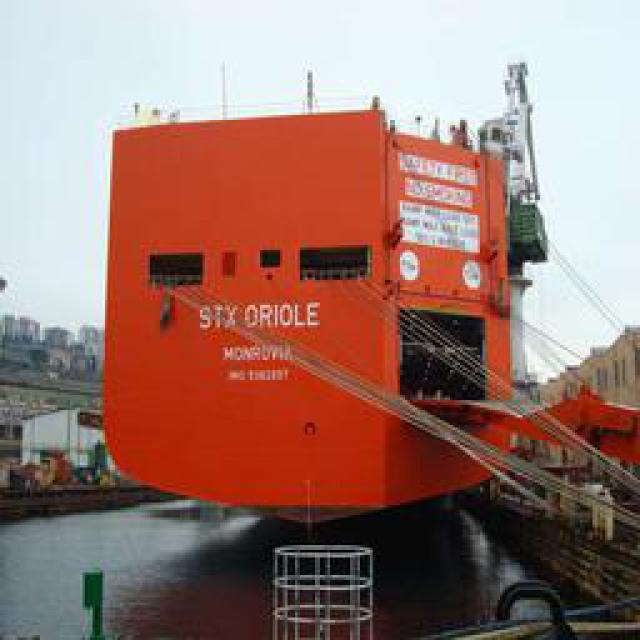Ship: (107, 46, 566, 530)
